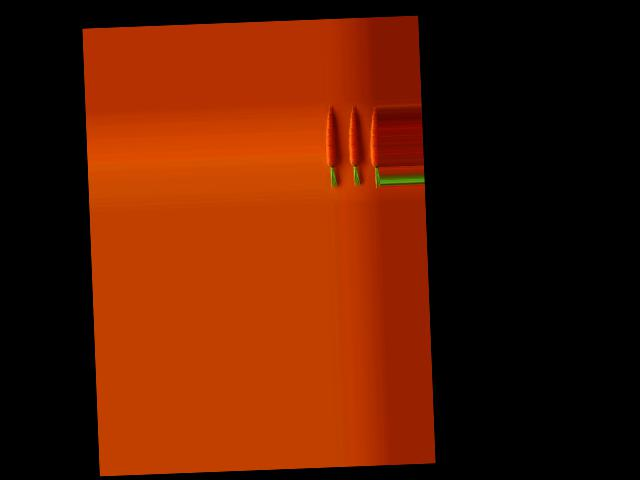carrot: (368, 116, 379, 189)
